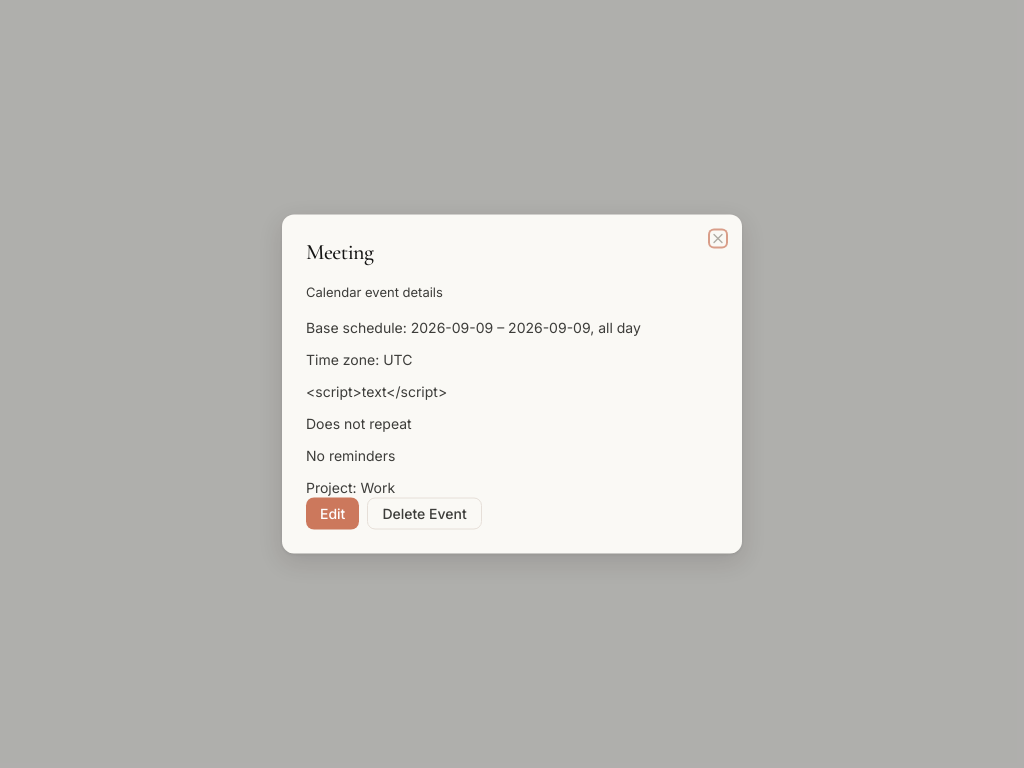
Test: retains a readable draft after external deletion
This screenshot has width=1024, height=768.
Click the button "Edit" at x=333, y=514, box top-left (306, 498), bottom-right (359, 530)
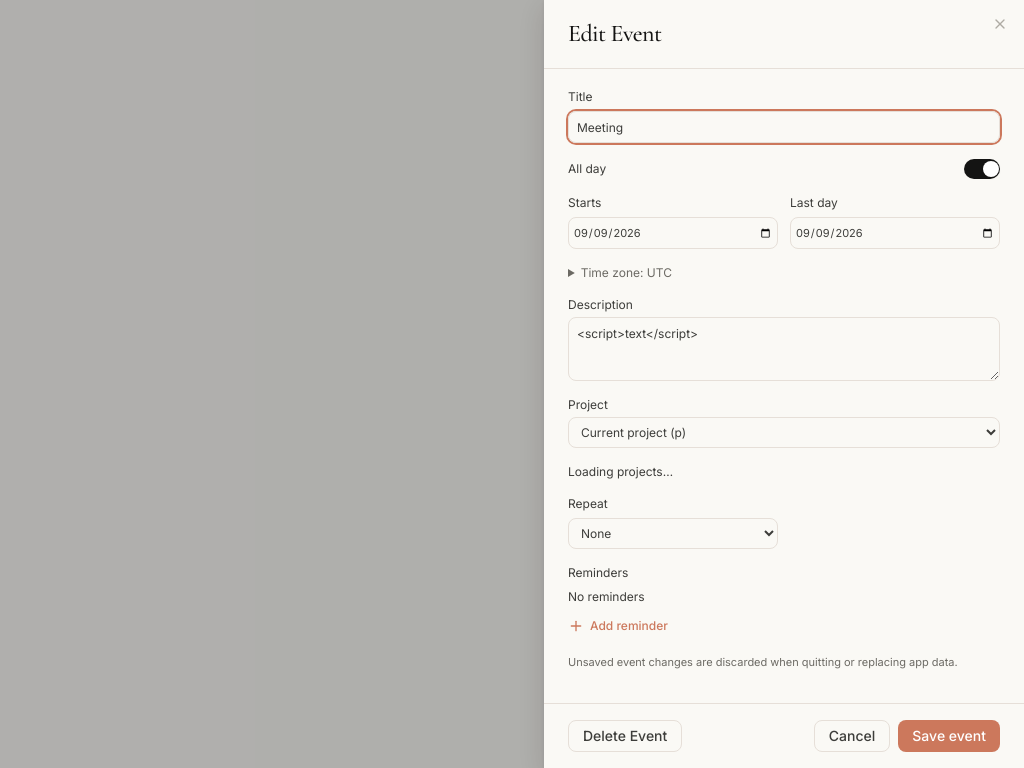
Replace the text in the field labelled "Title" with "Copy me" at x=784, y=127, box top-left (568, 111), bottom-right (1000, 143)
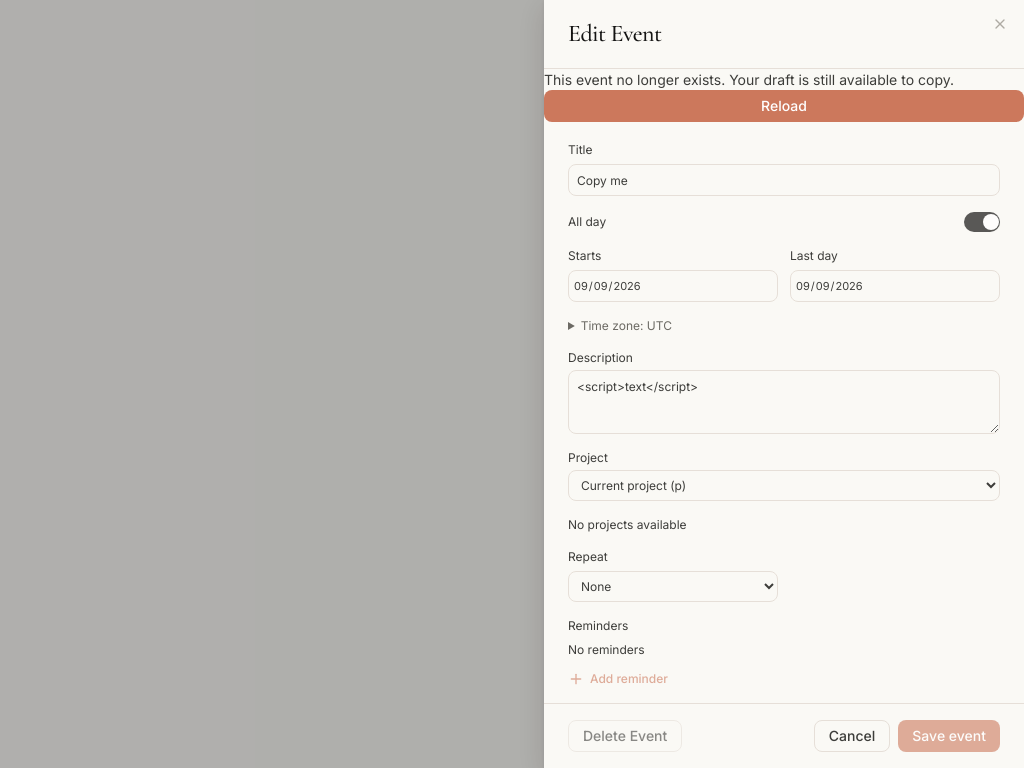
Check: the button "Save event" is disabled, box top-left (898, 720), bottom-right (1000, 752)
Check: the text "This event no longer exists. Your draft is still available to copy." is shown, box top-left (544, 69), bottom-right (1023, 90)
